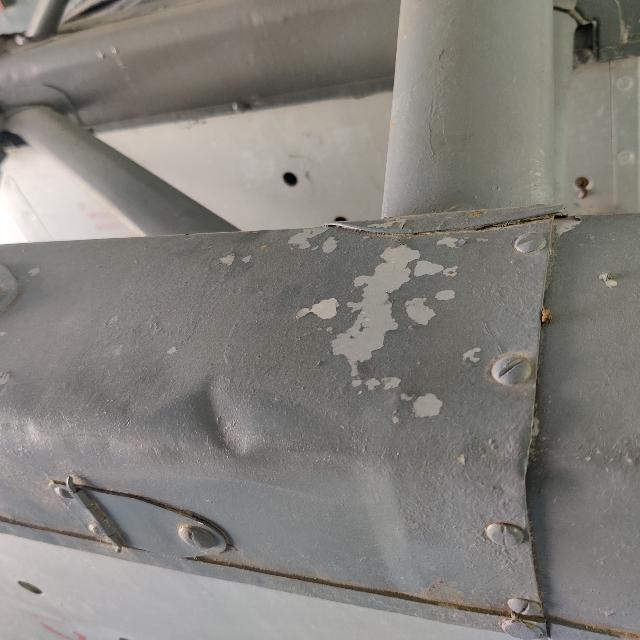dent: (178, 371, 264, 471)
